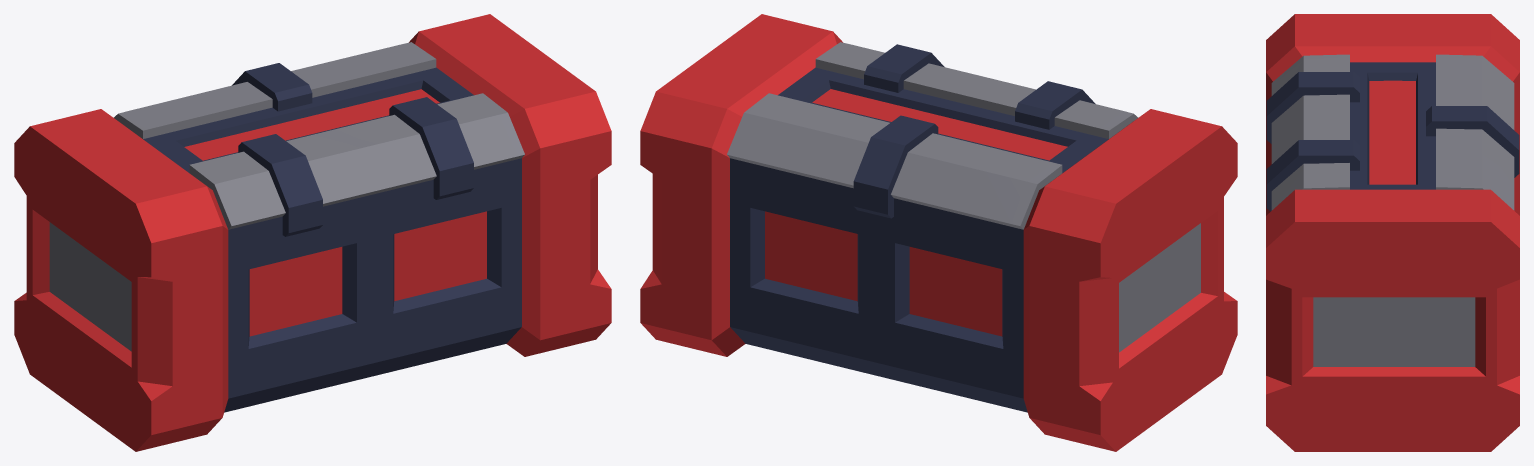
The model's file is Container.fbx.
3 views of the same model, side by side, from view 1: azimuth 30°, elevation 25°; view 2: azimuth 150°, elevation 25°; view 3: azimuth 270°, elevation 25° (orthographic). The views are drawn at different scales.
Parts seen in each view (by area): view 1: Container; view 2: Container; view 3: Container.
Part boxes in pixels (<box>): Container: <box>14,14,611,451</box>; Container: <box>640,14,1237,451</box>; Container: <box>1266,14,1519,451</box>.
Bounding box in the file's own units: 797 × 418 × 411.
